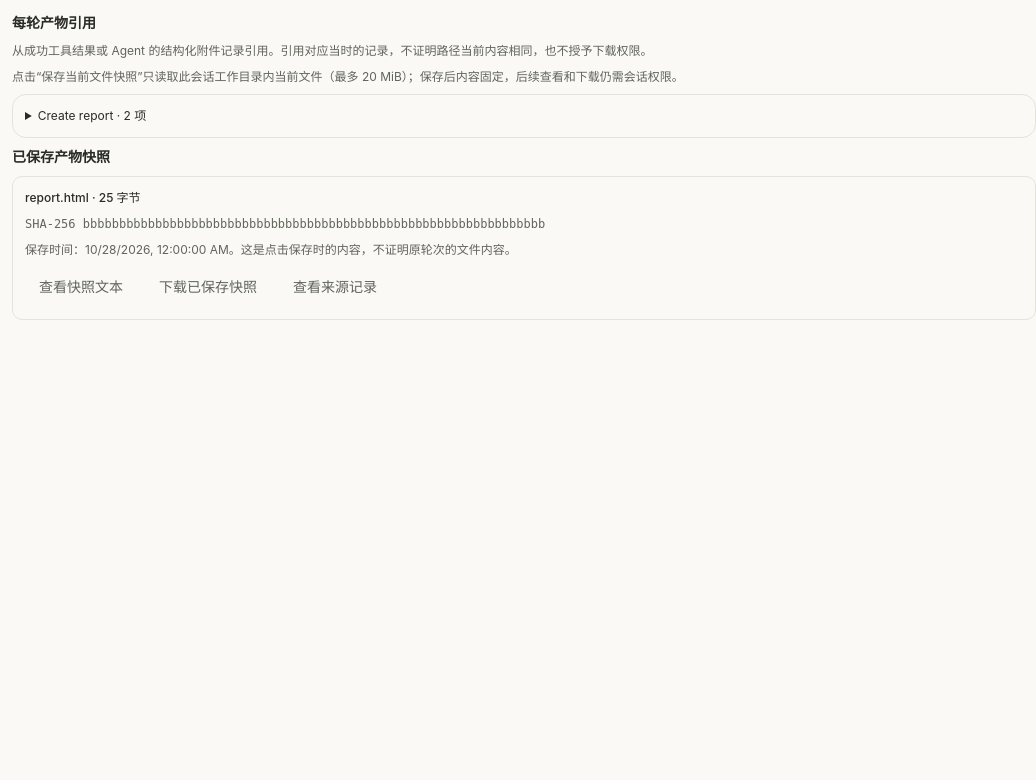
Test: shows capture, preview and download errors without removing the recorded source
This screenshot has width=1036, height=780.
Click the heading "Create report · 2 项": [92, 116] box [38,108,146,123]
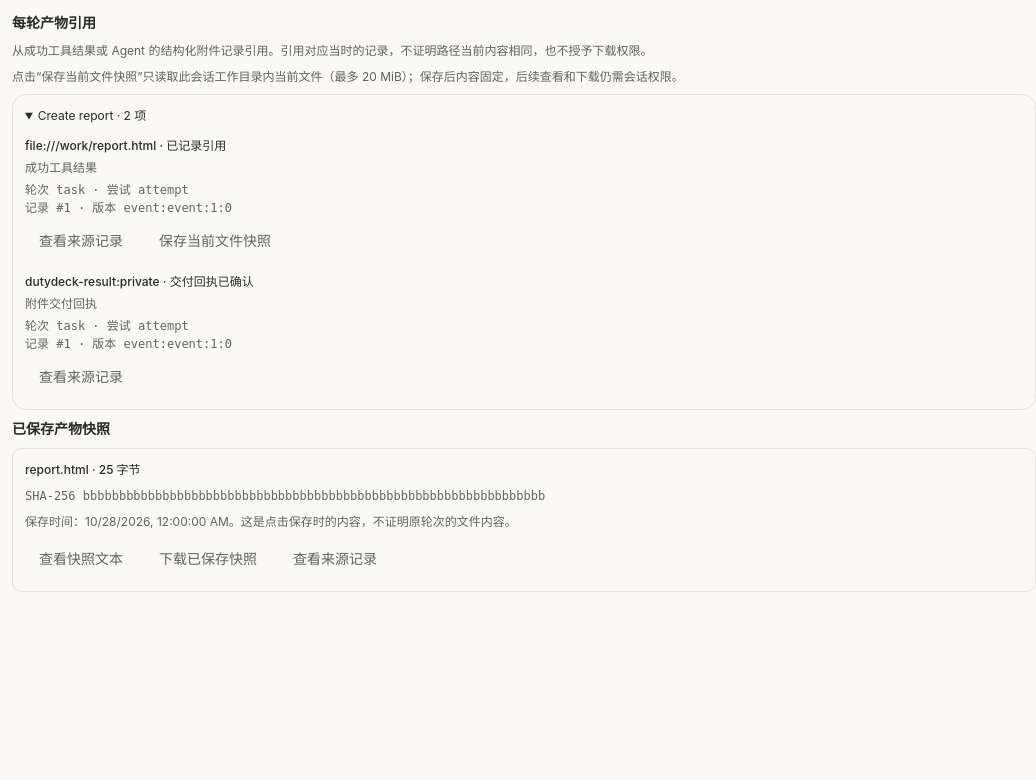
Click the button "保存当前文件快照": [215, 241] box [145,221,285,261]
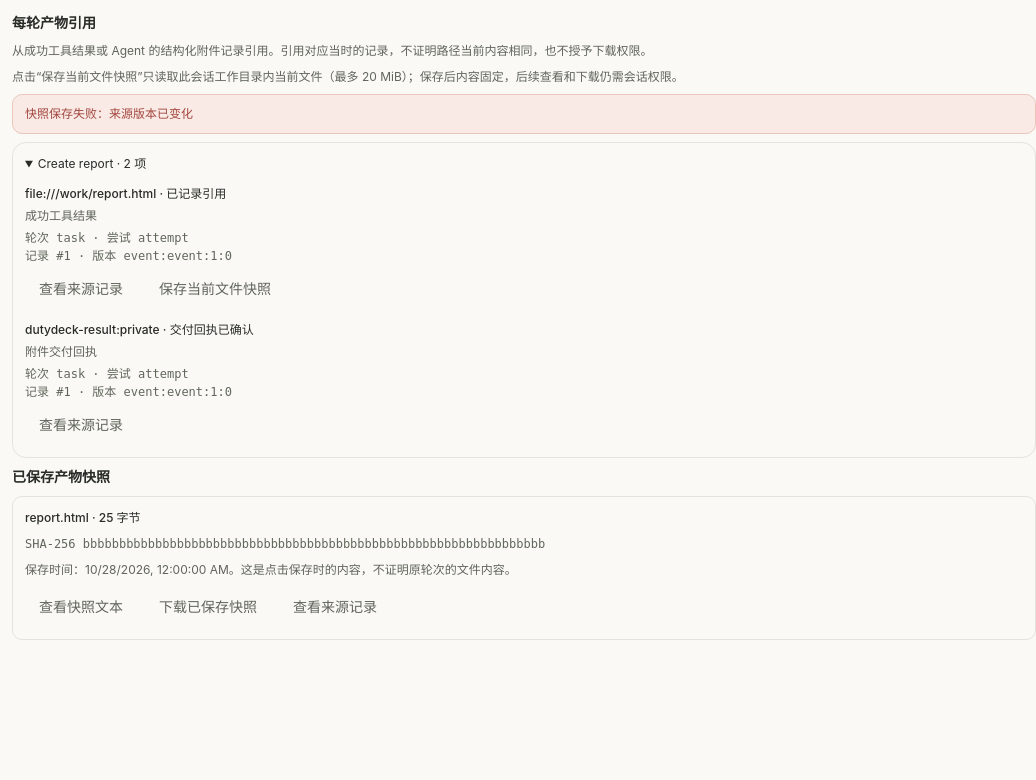
Expected: the text "快照保存失败：来源版本已变化" is shown, [25,106,193,121]
Click the button "查看快照文本": [81, 607] box [25,587,137,627]
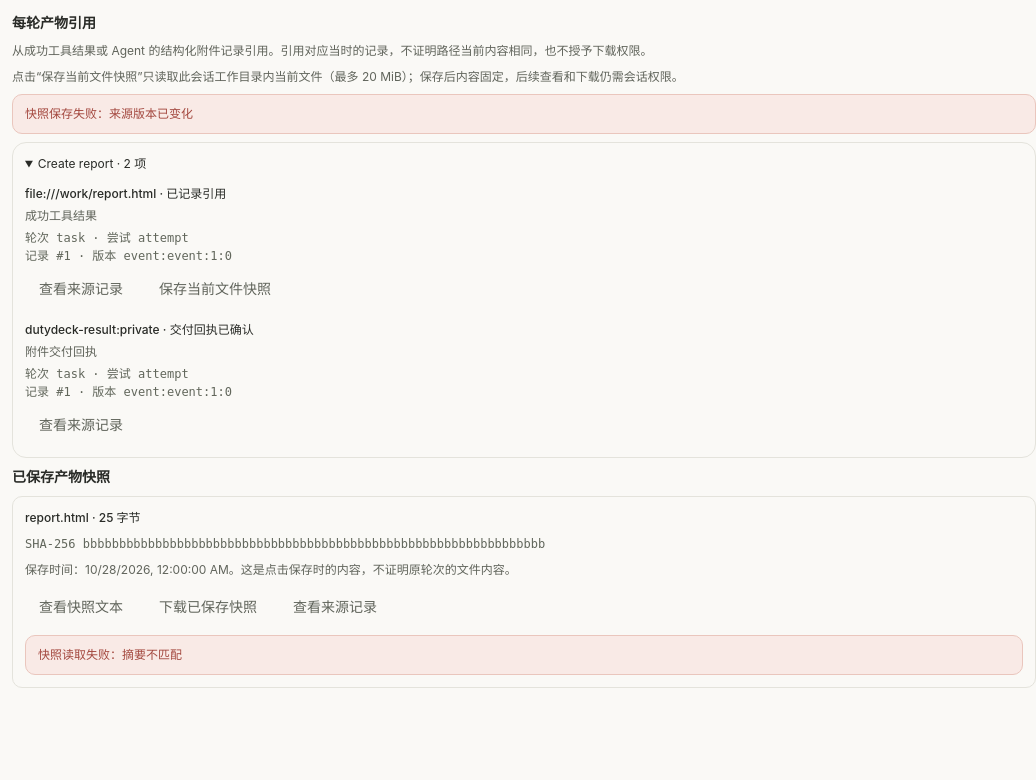
Expected: the text "快照读取失败：摘要不匹配" is shown, [38,647,182,662]
Click the button "下载已保存快照": [208, 607] box [145,587,271,627]
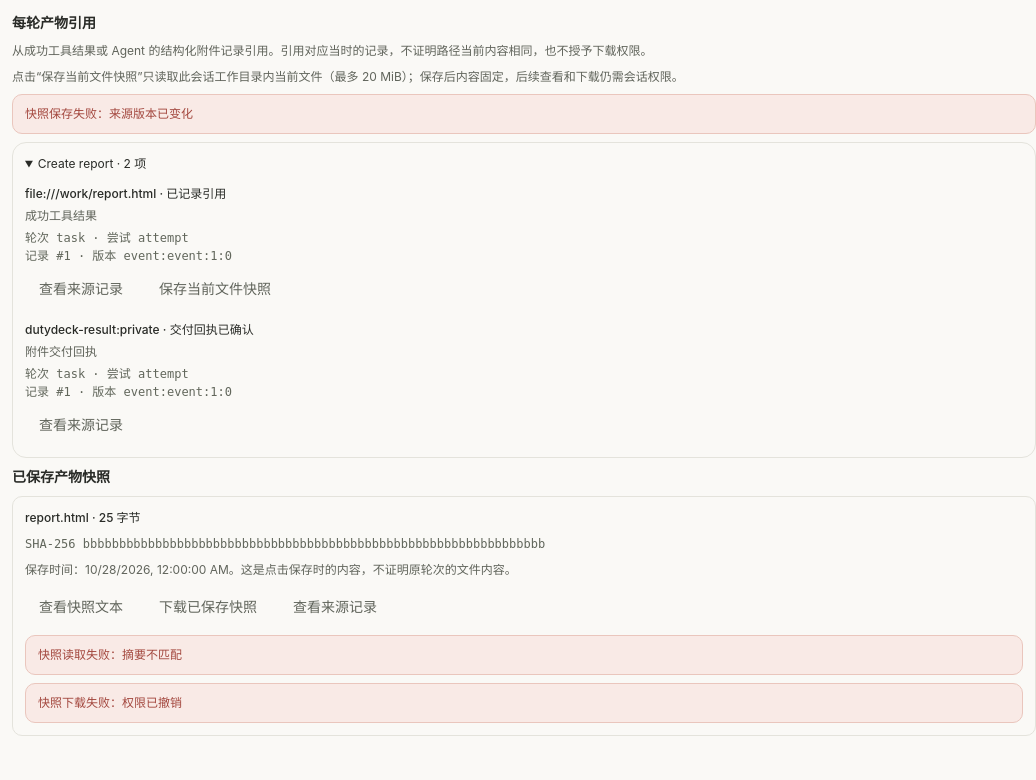
Expected: the number of buttons "查看来源记录" is 3, [25,269,137,309]; [25,405,137,445]; [279,587,391,627]
Expected: the text "快照下载失败：权限已撤销" is shown, [38,695,182,710]
